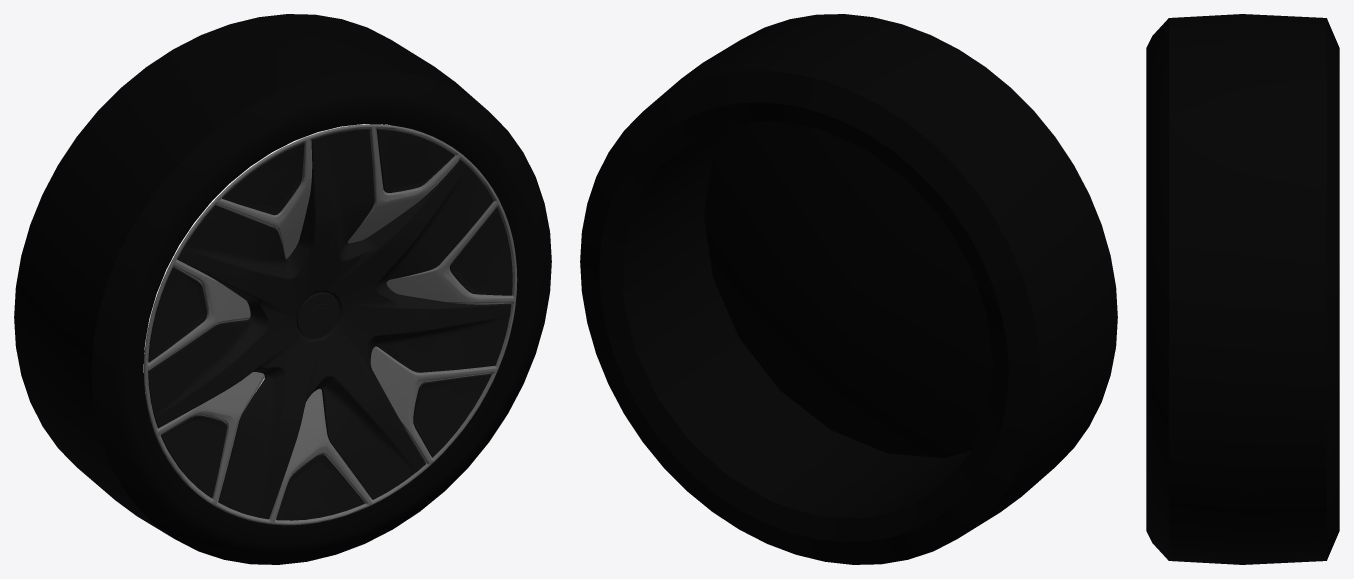
File: Machina2.glb
3 renders of one model, left to right at view 1: azimuth 30°, elevation 25°; view 2: azimuth 150°, elevation 25°; view 3: azimuth 270°, elevation 25°, orthographic. The views are drawn at different scales.
Visible parts, largest first — view 1: LongWheel; view 2: LongWheel; view 3: LongWheel.
Part boxes in pixels (bbox=[...]): LongWheel: bbox=[14, 14, 551, 564]; LongWheel: bbox=[580, 14, 1117, 564]; LongWheel: bbox=[1146, 14, 1339, 564].
Bounding box in the file's own units: 0.6726 × 0.6713 × 0.2359.
Materials: 2 (1 with a texture image).
